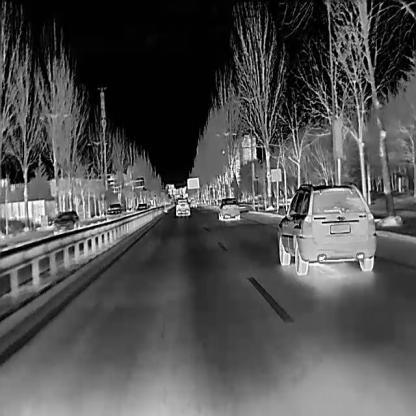car: (275, 180, 376, 276), (52, 209, 80, 236), (216, 196, 239, 220), (105, 202, 123, 218), (174, 199, 189, 216), (136, 202, 149, 214), (189, 198, 197, 207)
